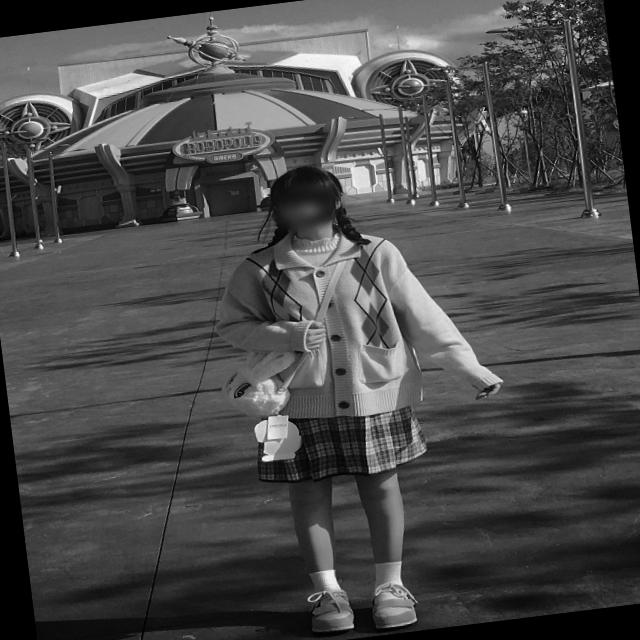cardigan: (204, 207, 506, 430)
skirt: (250, 397, 432, 487)
